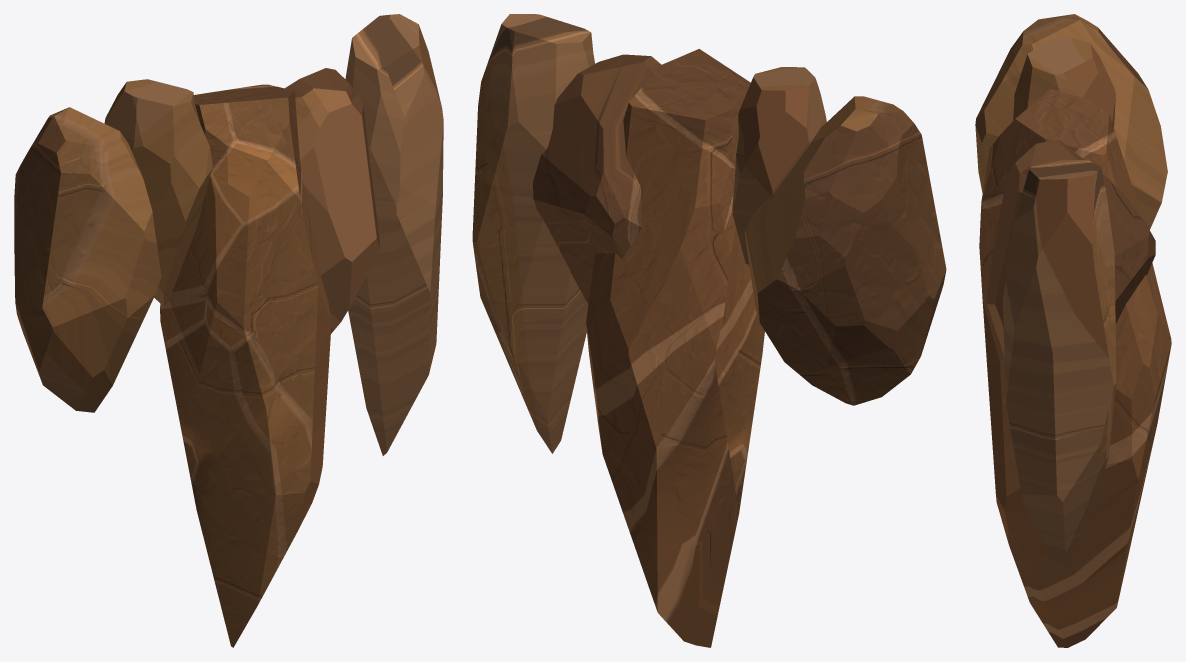
Rendered from RockOutside_1.fbx.
The picture shows the model from 3 angles, left to right: view 1: azimuth 30°, elevation 25°; view 2: azimuth 150°, elevation 25°; view 3: azimuth 270°, elevation 25°; orthographic projection. The views are drawn at different scales.
Parts seen in each view (by area): view 1: RockOutSide1; view 2: RockOutSide1; view 3: RockOutSide1.
Boxes of the visible parts, x1,y1,x2,y2 form: RockOutSide1: (14,14,443,647); RockOutSide1: (472,14,946,647); RockOutSide1: (975,14,1171,647).
Bounding box in the file's own units: 333 × 433 × 137.
